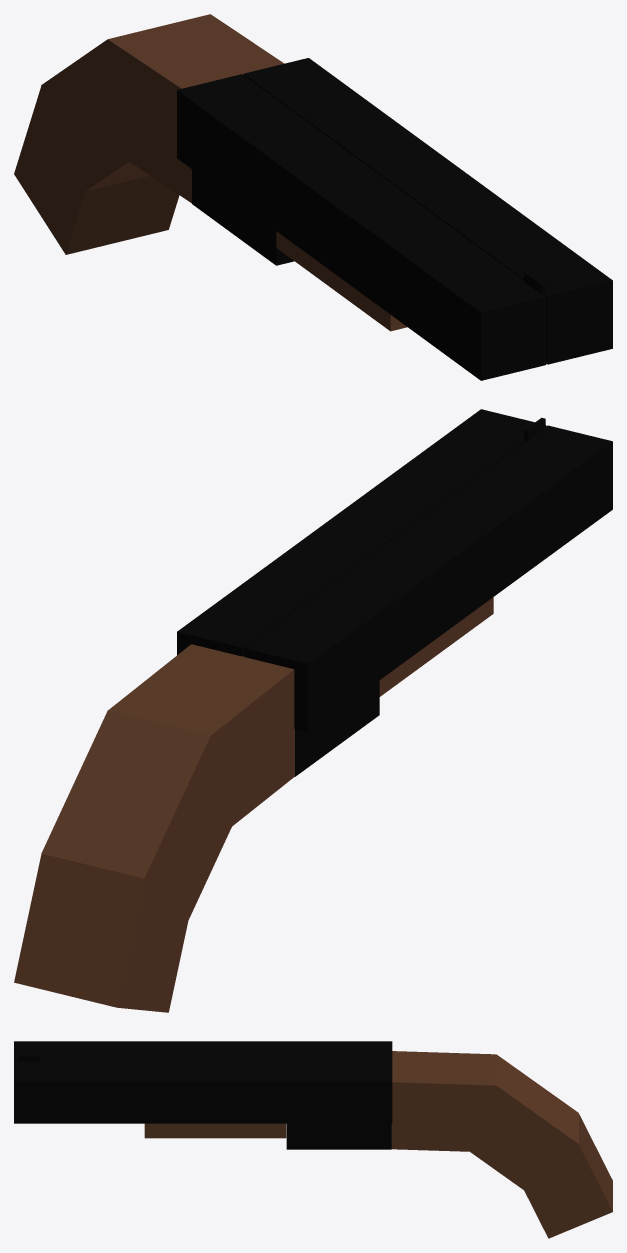
Rendered from double_barrel_shotgun_old_versioncube.glb.
3 views of the same model, one above another, from view 1: azimuth 30°, elevation 25°; view 2: azimuth 150°, elevation 25°; view 3: azimuth 270°, elevation 25° (orthographic). The views are drawn at different scales.
Visible parts, largest first — view 1: Object_3, Object_2; view 2: Object_3, Object_2; view 3: Object_3, Object_2.
Part boxes in pixels (left/top/right/bottom): Object_3: left=177, top=58, right=612, bottom=380; Object_2: left=14, top=14, right=407, bottom=331; Object_3: left=177, top=409, right=612, bottom=776; Object_2: left=14, top=597, right=493, bottom=1012; Object_3: left=14, top=1041, right=392, bottom=1149; Object_2: left=144, top=1051, right=612, bottom=1238.
Bounding box in the file's own units: 0.1931 × 0.3779 × 1.22.
